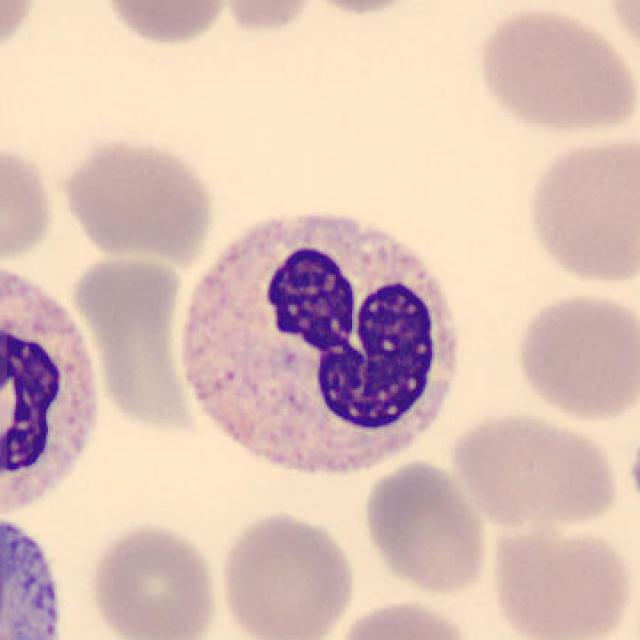Monocyte: (0, 499, 76, 640)
Neutrophil: (169, 196, 469, 495), (0, 248, 108, 532)
RBC: (68, 248, 196, 436), (469, 2, 636, 138), (444, 407, 622, 531), (55, 132, 219, 261), (215, 508, 359, 640), (359, 457, 493, 598), (521, 129, 638, 289), (486, 522, 636, 640), (510, 287, 638, 425), (87, 520, 221, 640), (0, 136, 59, 268), (94, 0, 234, 49), (331, 596, 480, 640), (212, 0, 327, 37), (599, 0, 640, 71), (0, 0, 43, 67), (288, 0, 437, 16)
